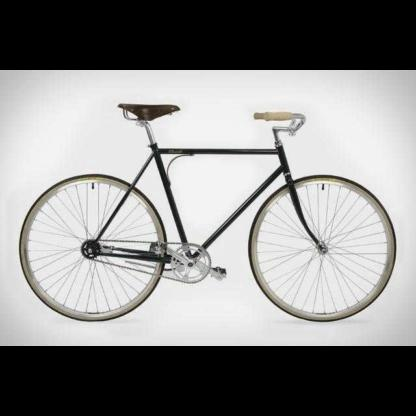Bicycle: (10, 83, 406, 330)
